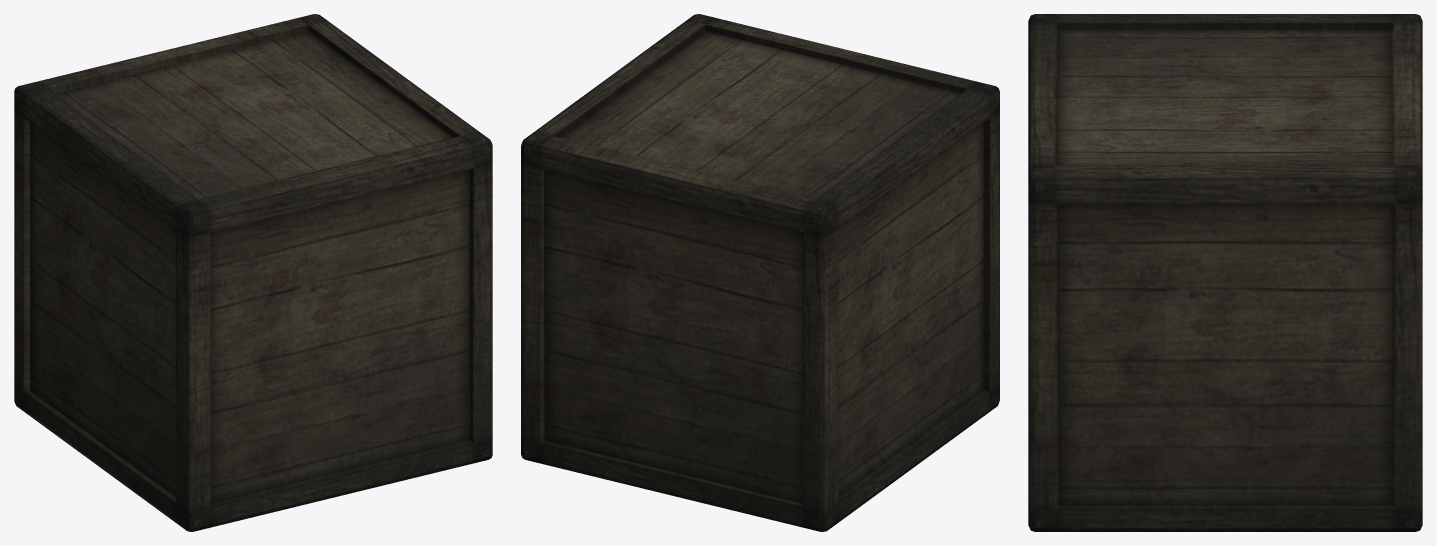
The model's file is wooden_crate_8.obj.
3 renders of one model, left to right at view 1: azimuth 30°, elevation 25°; view 2: azimuth 150°, elevation 25°; view 3: azimuth 270°, elevation 25°, orthographic. The views are drawn at different scales.
Parts seen in each view (by area): view 1: wooden_crate_8; view 2: wooden_crate_8; view 3: wooden_crate_8.
Boxes of the visible parts, x1,y1,x2,y2 form: wooden_crate_8: (14, 14, 492, 531); wooden_crate_8: (521, 14, 999, 531); wooden_crate_8: (1028, 14, 1422, 531).
Size of the model in its own units: 1.1 by 1.1 by 1.1.
